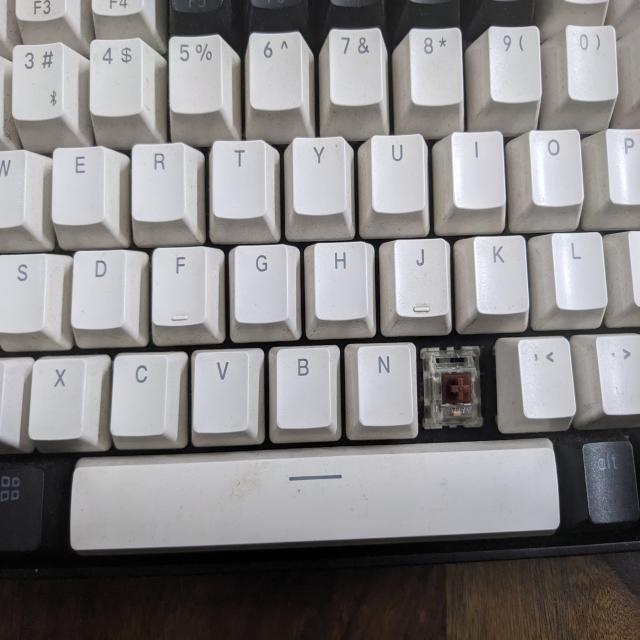key-switch: (423, 343, 483, 427)
